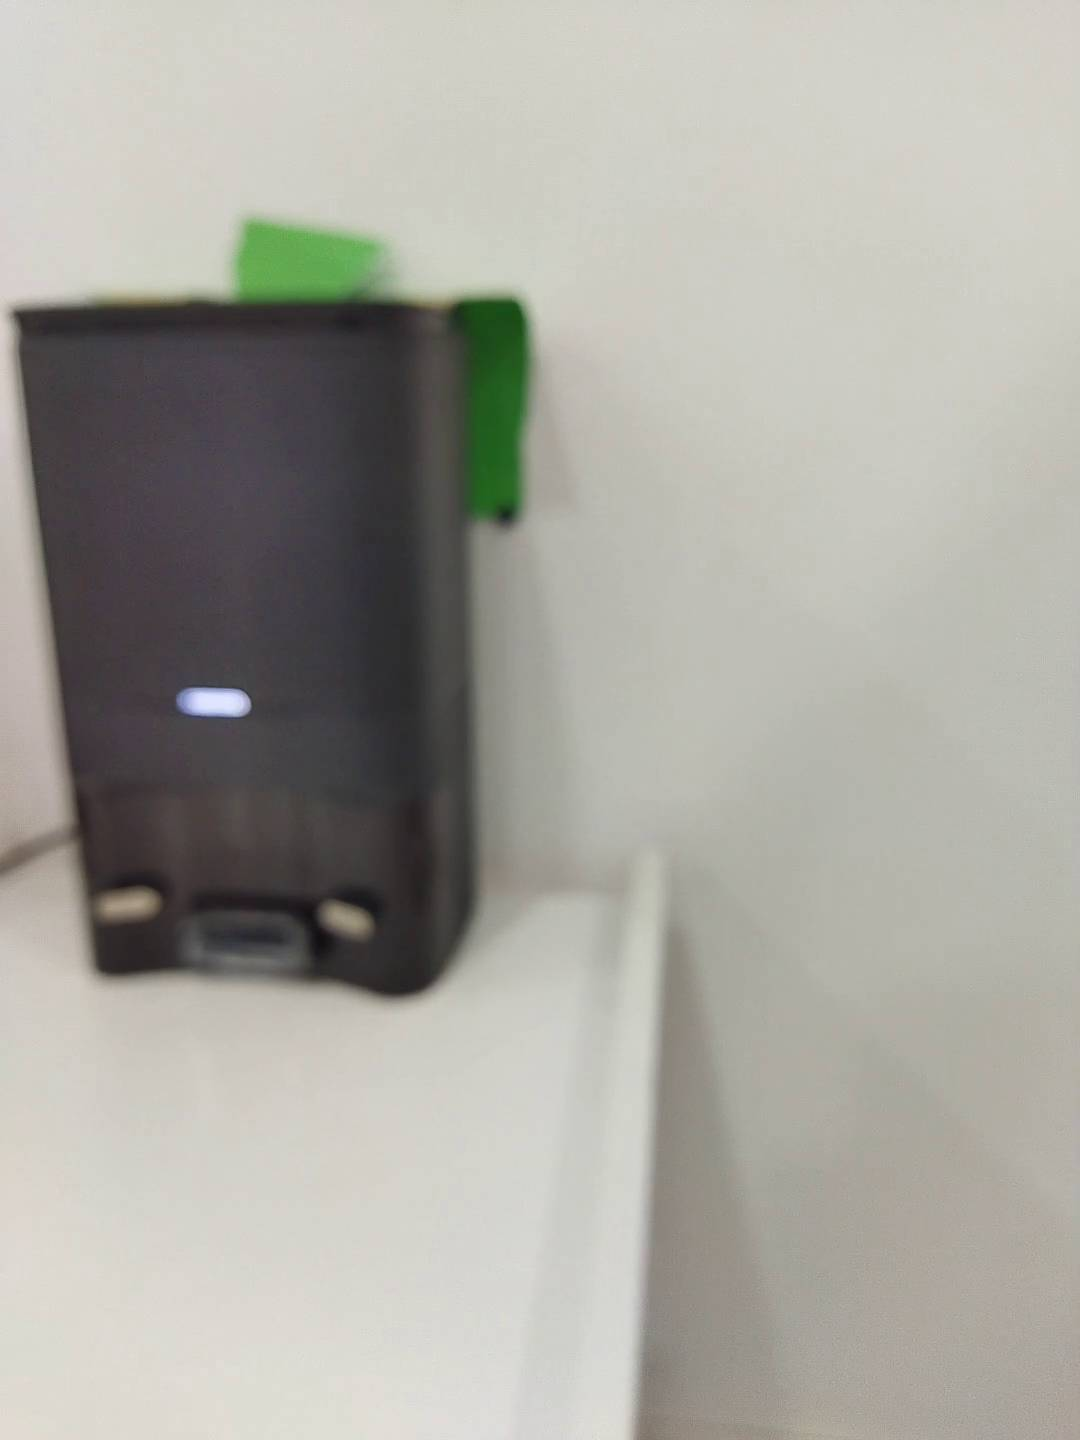dust collecting barrel: (10, 299, 483, 999)
